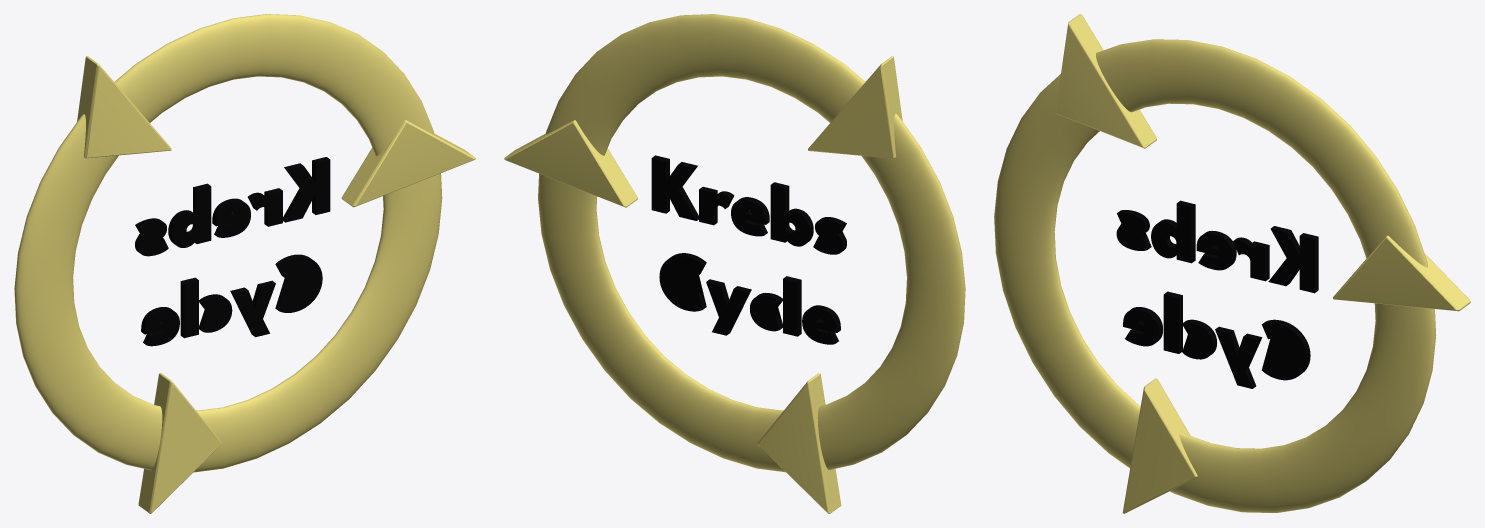
File: Krebs Cycle combine.fbx
3 renders of one model, left to right at view 1: azimuth 30°, elevation 25°; view 2: azimuth 150°, elevation 25°; view 3: azimuth 330°, elevation 25°, orthographic. The views are drawn at different scales.
Visible parts, largest first — view 1: Kreb_Cycle; view 2: Kreb_Cycle; view 3: Kreb_Cycle.
Boxes of the visible parts, x1,y1,x2,y2 form: Kreb_Cycle: (14,14,475,513); Kreb_Cycle: (504,14,965,513); Kreb_Cycle: (994,14,1470,513).
Size of the model in its own units: 2.1 by 2.07 by 0.1051.
